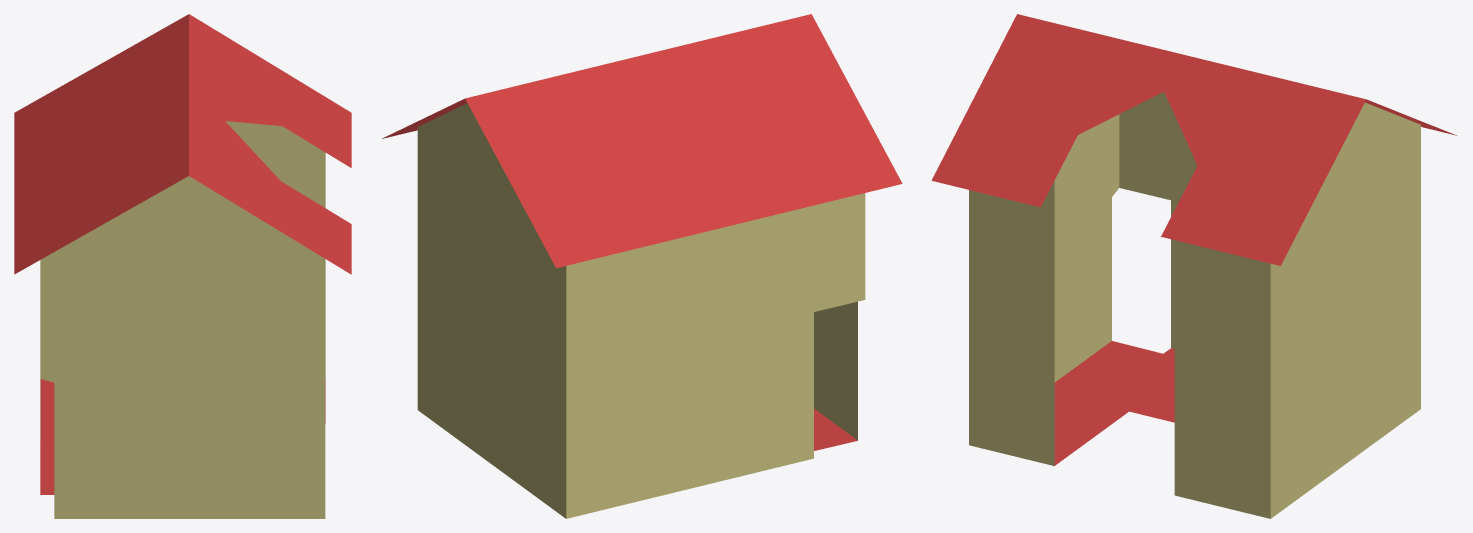
3 renders of one model, left to right at view 1: azimuth 30°, elevation 25°; view 2: azimuth 150°, elevation 25°; view 3: azimuth 270°, elevation 25°, orthographic. The views are drawn at different scales.
Visible parts, largest first — view 1: group_5, group_3, group_6; view 2: group_5, group_3, group_6; view 3: group_5, group_3, group_6, group_4.
Part boxes in pixels (bbox=[...]): group_5: bbox=[40, 121, 325, 518]; group_3: bbox=[14, 14, 351, 274]; group_6: bbox=[40, 379, 325, 494]; group_5: bbox=[417, 103, 865, 518]; group_3: bbox=[382, 14, 902, 268]; group_6: bbox=[814, 408, 857, 450]; group_5: bbox=[969, 92, 1420, 518]; group_3: bbox=[931, 14, 1457, 265]; group_6: bbox=[1054, 341, 1174, 465]; group_4: bbox=[972, 161, 1278, 264].
Size of the model in its own units: 18.5 by 19.14 by 14.94.
